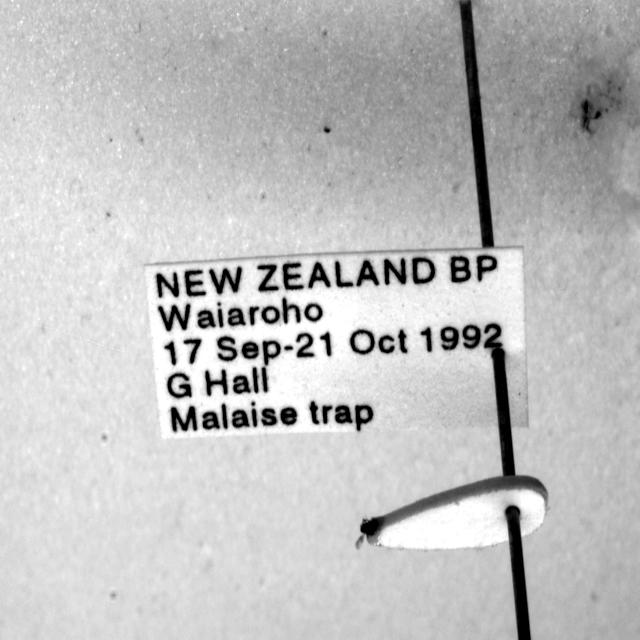typed_label: (145, 248, 528, 437)
